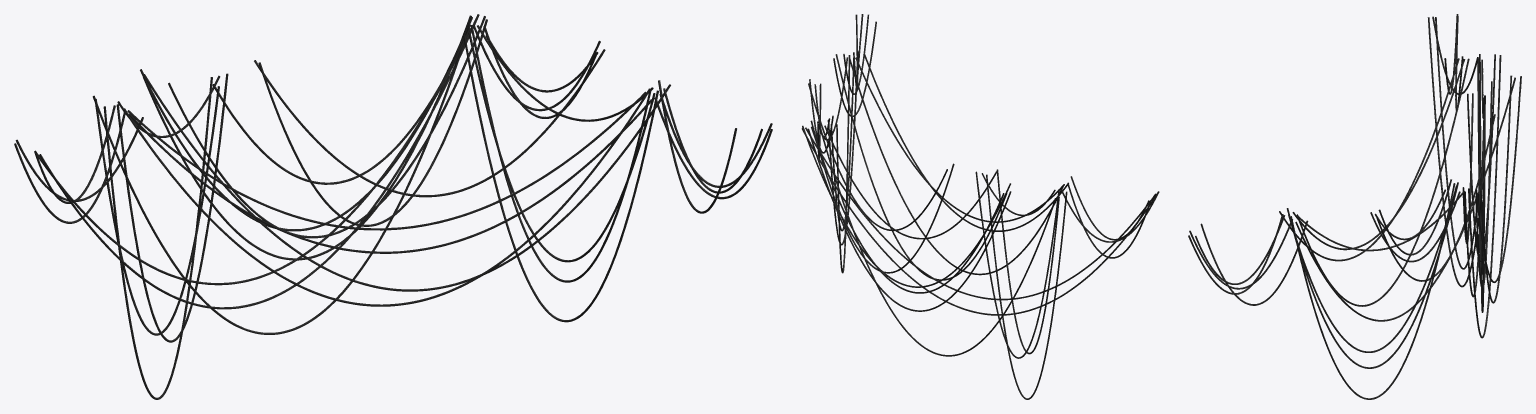
File: wires.fbx
3 renders of one model, left to right at view 1: azimuth 30°, elevation 25°; view 2: azimuth 150°, elevation 25°; view 3: azimuth 270°, elevation 25°, orthographic. The views are drawn at different scales.
Parts seen in each view (by area): view 1: Catenary.029_Catenary.045; view 2: Catenary.029_Catenary.045; view 3: Catenary.029_Catenary.045.
Part boxes in pixels (<box>): Catenary.029_Catenary.045: <box>14,14,772,399</box>; Catenary.029_Catenary.045: <box>801,14,1159,399</box>; Catenary.029_Catenary.045: <box>1188,14,1521,399</box>.
Size of the model in its own units: 12898 by 6633 by 8205.
1 material, 1 textured.
